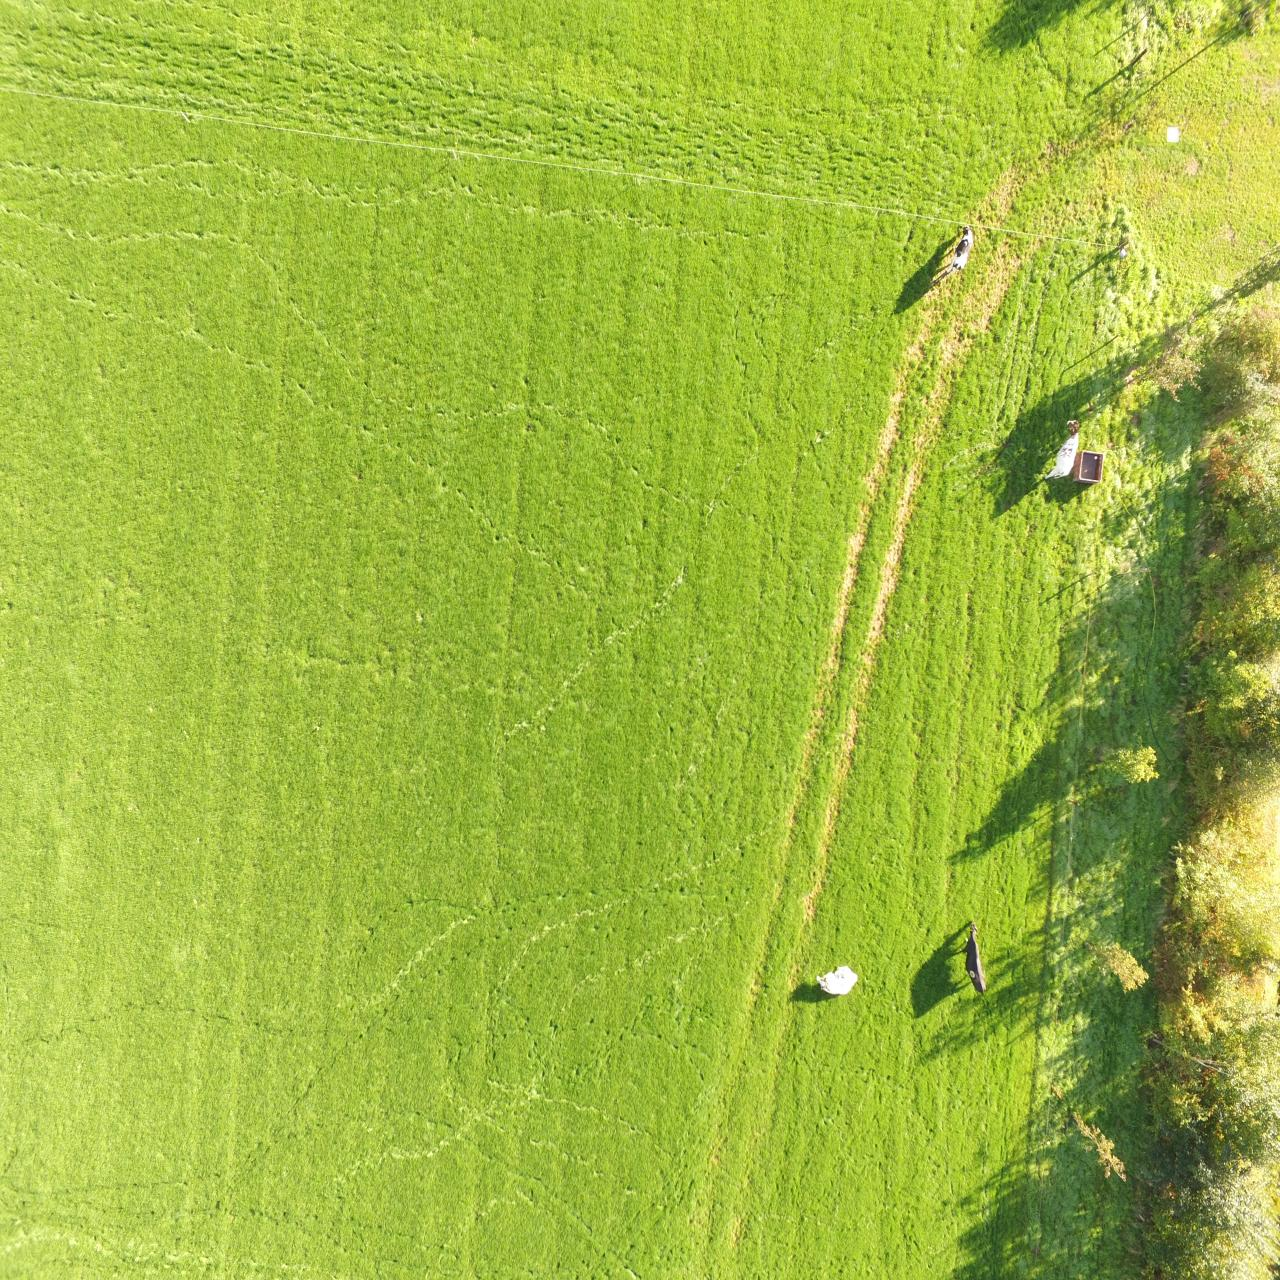cow: (1044, 416, 1080, 484), (962, 920, 988, 997), (813, 966, 858, 999), (946, 223, 972, 279)
